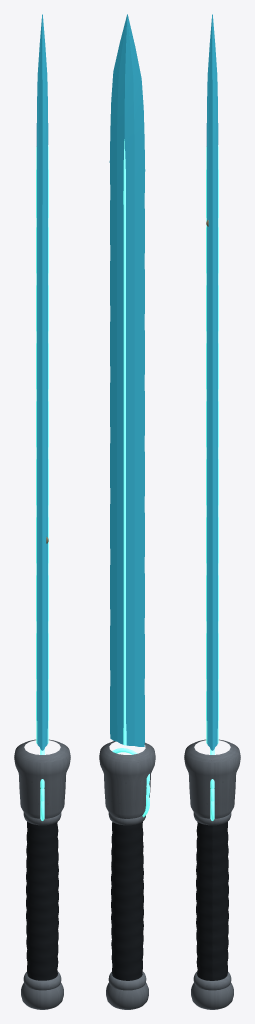
File: light-blade.lod1.glb
3 renders of one model, left to right at view 1: azimuth 90°, elevation 25°; view 2: azimuth 150°, elevation 25°; view 3: azimuth 270°, elevation 25°, orthographic.
Visible parts, largest first — view 1: crystal / faceted crystal, polymer / stippled polymer, alloy / machined anodized alloy, energy / emissive field channel; view 2: crystal / faceted crystal, polymer / stippled polymer, alloy / machined anodized alloy, energy / emissive field channel; view 3: crystal / faceted crystal, polymer / stippled polymer, alloy / machined anodized alloy, energy / emissive field channel.
Boxes of the visible parts, x1=… form: crystal / faceted crystal: x1=36, y1=14, x2=48, y2=750; polymer / stippled polymer: x1=26, y1=822, x2=58, y2=980; alloy / machined anodized alloy: x1=14, y1=739, x2=70, y2=1009; energy / emissive field channel: x1=36, y1=145, x2=48, y2=820; crystal / faceted crystal: x1=109, y1=14, x2=145, y2=746; polymer / stippled polymer: x1=111, y1=822, x2=143, y2=980; alloy / machined anodized alloy: x1=99, y1=741, x2=155, y2=1009; energy / emissive field channel: x1=112, y1=139, x2=149, y2=817; crystal / faceted crystal: x1=206, y1=14, x2=218, y2=750; polymer / stippled polymer: x1=196, y1=822, x2=228, y2=980; alloy / machined anodized alloy: x1=184, y1=739, x2=240, y2=1009; energy / emissive field channel: x1=206, y1=145, x2=218, y2=820.
Bounding box in the file's own units: 0.0621 × 1.2 × 0.0621.
Materials: 6 (2 with a texture image).
